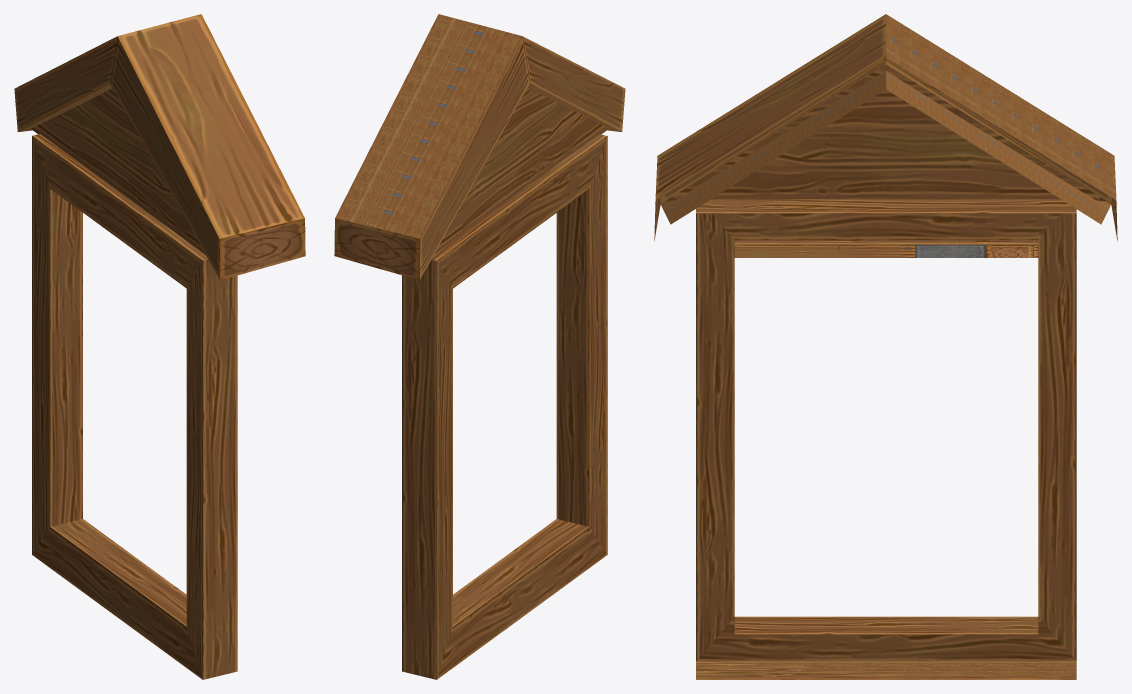
The picture shows the model from 3 angles, left to right: view 1: azimuth 30°, elevation 25°; view 2: azimuth 150°, elevation 25°; view 3: azimuth 270°, elevation 25°; orthographic projection. The views are drawn at different scales.
Parts seen in each view (by area): view 1: Cube.1759; view 2: Cube.1759; view 3: Cube.1759.
Part boxes in pixels (<box>): Cube.1759: <box>14,14,305,679</box>; Cube.1759: <box>334,14,625,679</box>; Cube.1759: <box>654,14,1117,679</box>.
Bounding box in the file's own units: 35.13 × 214 × 138.
Materials: 1 (1 with a texture image).
